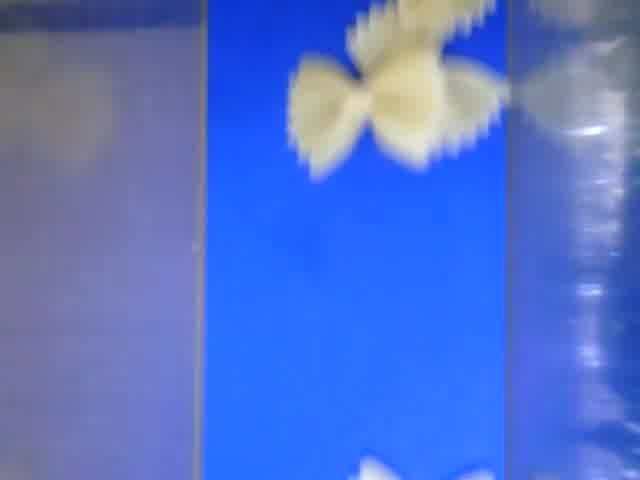farfalle: (345, 6, 508, 158), (279, 56, 447, 173)
